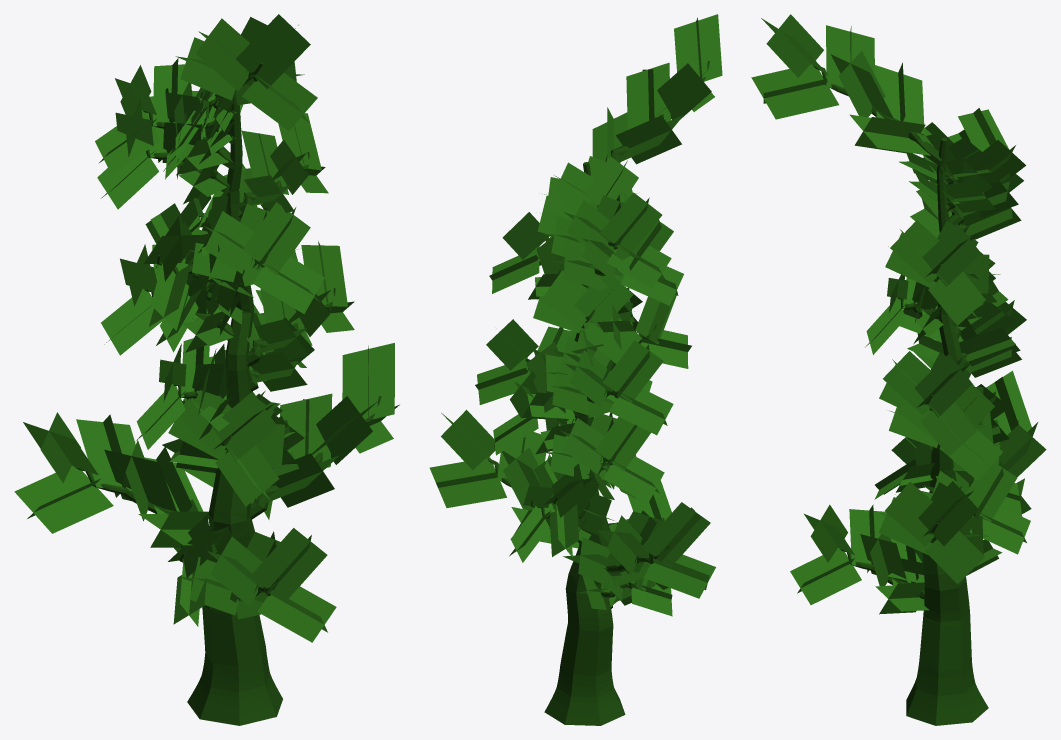
Rendered from TreeB11.fbx.
3 renders of one model, left to right at view 1: azimuth 30°, elevation 25°; view 2: azimuth 150°, elevation 25°; view 3: azimuth 270°, elevation 25°, orthographic. The views are drawn at different scales.
Parts seen in each view (by area): view 1: TreeBB2; view 2: TreeBB2; view 3: TreeBB2.
Boxes of the visible parts, x1,y1,x2,y2 form: TreeBB2: (14, 14, 399, 725); TreeBB2: (429, 14, 722, 725); TreeBB2: (751, 14, 1046, 725).
Size of the model in its own units: 2.81 by 5.73 by 2.27.
